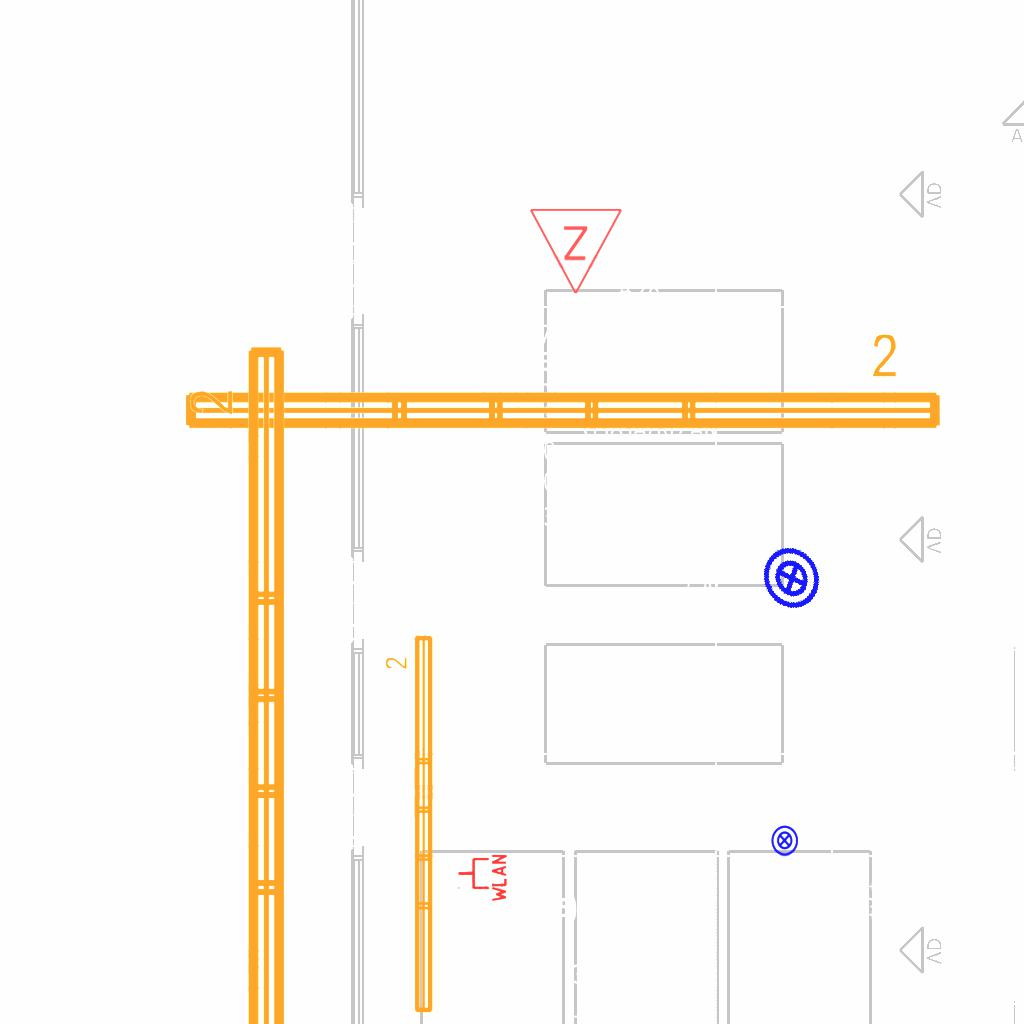Ambulanz_Pendelleuchte_LED: (175, 329, 949, 441), (185, 338, 297, 1024), (383, 631, 439, 1018)
Taster_beleuchtet: (748, 534, 836, 622), (768, 824, 801, 857)
WLAN: (456, 852, 508, 904)
Zimmersignalleuchte: (528, 201, 626, 301)
